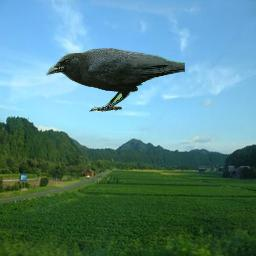Crow: (46, 48, 185, 113)
